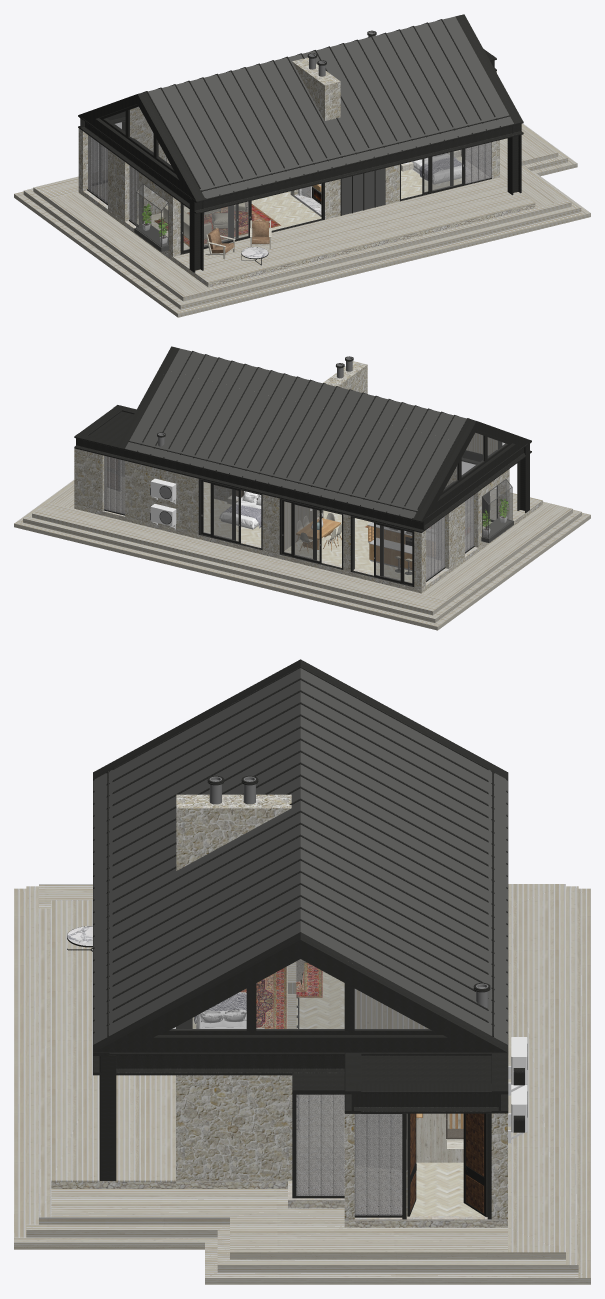
Rendered from room7.glb.
The picture shows the model from 3 angles, top to bottom: view 1: azimuth 30°, elevation 25°; view 2: azimuth 150°, elevation 25°; view 3: azimuth 270°, elevation 25°; orthographic projection. The views are drawn at different scales.
Parts seen in each view (by area): view 1: Material2 (×12), Material3 (×3); view 2: Material2 (×13), Material3; view 3: Material2 (×13), Material3 (×2).
Boxes of the visible parts, box(x1,y1,x2,y2) form: Material2 (×12): box(14, 14, 590, 317); Material3 (×3): box(88, 135, 491, 253); Material2 (×13): box(14, 346, 590, 630); Material3: box(104, 456, 473, 580); Material2 (×13): box(14, 659, 590, 1284); Material3 (×2): box(296, 1094, 463, 1215).
Bounding box in the file's own units: 873 × 302 × 547.
51 materials, 50 textured.
